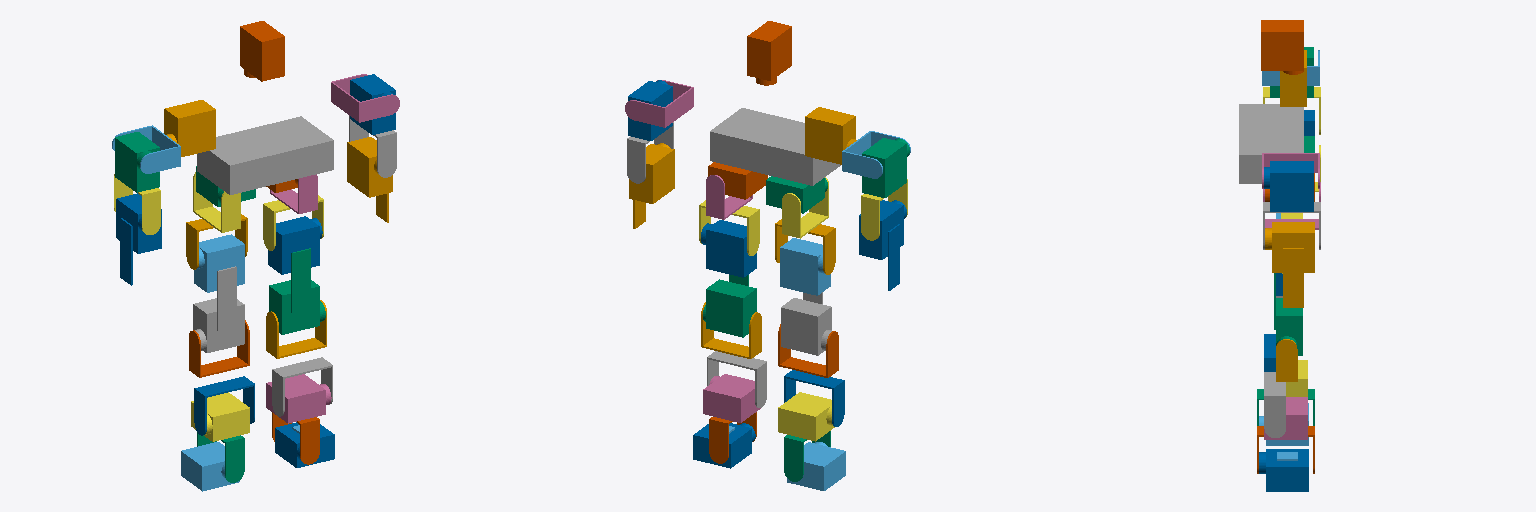
--- What the picture shows (computed from the rendered views, not written in the file) ---
3 views of the same robot in one strip: view 1: azimuth 30°, elevation 25°; view 2: azimuth 150°, elevation 25°; view 3: azimuth 270°, elevation 25° (orthographic).
Model humanoidV3 with 45 links and 44 joints (17 revolute, 27 fixed), rooted at base_link, posed all joints at 0.
Visible links, largest first — view 1: Comp3, servo6, servo5, servo17, servo16, servo12, servo11, servo7, servo8, servo3, servo14, servo4 (+18 smaller); view 2: Comp3, servo6, servo5, servo17, servo7, servo16, servo8, servo11, servo12, servo4, servo3, servo14 (+19 smaller); view 3: Comp3, servo11, servo13, servo17, servo1, csmall7, servo5, servo3, servo16, csmall8, csmall14, csmall11 (+1 smaller).
Boxes of the visible links, x1,y1,x2,y2 form: Comp3: (197, 116, 333, 194); servo6: (193, 266, 244, 352); servo5: (269, 248, 325, 334); servo17: (240, 21, 284, 81); servo16: (164, 100, 215, 156); servo12: (116, 193, 161, 285); servo11: (347, 137, 392, 222); servo7: (268, 216, 322, 274); servo8: (194, 234, 244, 292); servo3: (266, 374, 331, 423); servo14: (115, 132, 159, 192); servo4: (191, 392, 249, 441); Comp3: (710, 108, 840, 185); servo6: (781, 292, 831, 355); servo5: (703, 275, 756, 337); servo17: (747, 21, 791, 85); servo7: (701, 220, 756, 277); servo16: (805, 107, 856, 164); servo8: (780, 238, 830, 295); servo11: (629, 143, 674, 228); servo12: (859, 200, 906, 290); servo4: (778, 392, 834, 441); servo3: (703, 374, 760, 422); servo14: (862, 138, 909, 197); Comp3: (1239, 104, 1303, 183); servo11: (1265, 222, 1314, 307); servo13: (1264, 161, 1313, 211); servo17: (1261, 20, 1303, 74); servo1: (1259, 449, 1308, 491); csmall7: (1264, 372, 1285, 437); servo5: (1274, 273, 1302, 355); servo3: (1264, 397, 1307, 439); servo16: (1280, 50, 1306, 106); csmall8: (1276, 339, 1297, 381); csmall14: (1262, 153, 1319, 188); csmall11: (1262, 50, 1319, 85).
Size in the robot's own frame: 0.274 by 0.0752 by 0.4414 metres.
Meshes: 45 distinct files referenced, 32 mesh visuals loaded (32 binary STL); not drawn: 13 (reference not matched to a file when rendering).

URDF robot description (humanoidV3):
<?xml version='1.0' encoding='utf-8'?>
<robot name="humanoidV3">
    <link name="ankel1">
        <inertial>
            <origin xyz="-2.8545686614478426e-09 4.961367341405065e-09 0.0008749966309221885" rpy="0.0 -0.0 0.0" />
            <mass value="0.022345050000000005" />
            <inertia ixx="2.6819762642970662e-05" iyy="7.87302233046875e-06" izz="3.4681379687502375e-05" ixy="-4.446922973085077e-20" iyz="-5.815410578492806e-20" ixz="2.0434669852509998e-19" />
        </inertial>
        <visual name="ankel1_visual">
            <origin xyz="-0.03250000285456978 -0.0099999950386329 0.0017499966309222068" rpy="-3.141592653589791 4.267419750902977e-16 -6.881682016646111e-16" />
            <geometry>
                <mesh filename="meshes/ankel1.stl" scale="0.001 0.001 0.001" />
            </geometry>
        </visual>
        <collision name="ankel1_collision">
            <origin xyz="-0.03250000285456978 -0.0099999950386329 0.0017499966309222068" rpy="-3.141592653589791 4.267419750902977e-16 -6.881682016646111e-16" />
            <geometry>
                <mesh filename="meshes/ankel1.stl" scale="0.001 0.001 0.001" />
            </geometry>
        </collision>
    </link>
    <link name="servo2">
        <inertial>
            <origin xyz="-0.009549971198737257 0.0023874887169520755 0.024964922230111784" rpy="0.0 -0.0 0.0" />
            <mass value="0.05780123871717229" />
            <inertia ixx="1.1637489216004055e-05" iyy="1.635538058948426e-05" izz="1.0629005497785803e-05" ixy="6.210436850517169e-08" iyz="-1.4284004757590833e-07" ixz="5.713601902397425e-07" />
        </inertial>
        <visual name="servo2_visual">
            <origin xyz="-0.05000000285457011 0.01674999663092223 0.03599999503863284" rpy="1.570796326794899 -6.881682016646106e-16 -6.486781597980867e-16" />
            <geometry>
                <mesh filename="meshes/servo2.stl" scale="0.001 0.001 0.001" />
            </geometry>
        </visual>
        <collision name="servo2_collision">
            <origin xyz="-0.05000000285457011 0.01674999663092223 0.03599999503863284" rpy="1.570796326794899 -6.881682016646106e-16 -6.486781597980867e-16" />
            <geometry>
                <mesh filename="meshes/servo2.stl" scale="0.001 0.001 0.001" />
            </geometry>
        </collision>
    </link>
    <link name="csmall1">
        <inertial>
            <origin xyz="-3.4451162012061334e-09 4.96135654781682e-09 0.013088698801773916" rpy="0.0 -0.0 0.0" />
            <mass value="0.007517560189288541" />
            <inertia ixx="4.996715608195631e-06" iyy="1.5854743173647894e-06" izz="3.897412167647726e-06" ixy="3.705769144237565e-21" iyz="1.6548906206980893e-18" ixz="-2.315078264183458e-14" />
        </inertial>
        <visual name="csmall1_visual">
            <origin xyz="-0.050000003599628244 -0.011249995575074707 0.049999996884241976" rpy="-3.141592653589791 6.486781597980804e-16 1.4153138822986764e-15" />
            <geometry>
                <mesh filename="meshes/csmall1.stl" scale="0.001 0.001 0.001" />
            </geometry>
        </visual>
        <collision name="csmall1_collision">
            <origin xyz="-0.050000003599628244 -0.011249995575074707 0.049999996884241976" rpy="-3.141592653589791 6.486781597980804e-16 1.4153138822986764e-15" />
            <geometry>
                <mesh filename="meshes/csmall1.stl" scale="0.001 0.001 0.001" />
            </geometry>
        </collision>
    </link>
    <link name="servo4">
        <inertial>
            <origin xyz="-0.0023874888659620196 -0.009549963382800864 0.024964923591852428" rpy="3.111507638930571e-61 -0.0 0.0" />
            <mass value="0.05780123871717229" />
            <inertia ixx="1.6355380589484585e-05" iyy="1.16374892159973e-05" izz="1.0629005497790953e-05" ixy="-6.21043685048261e-08" iyz="5.713601902392325e-07" ixz="1.4284004757467357e-07" />
        </inertial>
        <visual name="servo4_visual">
            <origin xyz="-0.0657499967799339 -0.021999995038632862 -0.02000000359962833" rpy="-3.1415926535897913 -1.5707963267948952 0" />
            <geometry>
                <mesh filename="meshes/servo4.stl" scale="0.001 0.001 0.001" />
            </geometry>
        </visual>
        <collision name="servo4_collision">
            <origin xyz="-0.0657499967799339 -0.021999995038632862 -0.02000000359962833" rpy="-3.1415926535897913 -1.5707963267948952 0" />
            <geometry>
                <mesh filename="meshes/servo4.stl" scale="0.001 0.001 0.001" />
            </geometry>
        </collision>
    </link>
    <link name="csmall2">
        <inertial>
            <origin xyz="-3.5996271297022987e-09 4.37082019244528e-09 0.013088698950758672" rpy="0.0 -0.0 0.0" />
            <mass value="0.0075175601892790555" />
            <inertia ixx="1.5854743173617604e-06" iyy="4.996715608184517e-06" izz="3.897412167641438e-06" ixy="-8.555032767268433e-20" iyz="-2.315089021501888e-14" ixz="2.913793338554793e-19" />
        </inertial>
        <visual name="csmall2_visual">
            <origin xyz="-0.04450000359962822 -0.021749996320132744 0.09899999703325346" rpy="-3.141592653589791 4.271059138961151e-16 1.235205088950724e-15" />
            <geometry>
                <mesh filename="meshes/csmall2.stl" scale="0.001 0.001 0.001" />
            </geometry>
        </visual>
        <collision name="csmall2_collision">
            <origin xyz="-0.04450000359962822 -0.021749996320132744 0.09899999703325346" rpy="-3.141592653589791 4.271059138961151e-16 1.235205088950724e-15" />
            <geometry>
                <mesh filename="meshes/csmall2.stl" scale="0.001 0.001 0.001" />
            </geometry>
        </collision>
    </link>
    <link name="csmall3">
        <inertial>
            <origin xyz="-0.01991129603275702 -1.602994736948915e-09 -0.024749996400372908" rpy="0.0 -0.0 0.0" />
            <mass value="0.007517560189279032" />
            <inertia ixx="3.897412167641516e-06" iyy="4.996715608183798e-06" izz="1.585474317361652e-06" ixy="2.3150932566666244e-14" iyz="-1.5648933700523199e-19" ixz="4.87890977618477e-19" />
        </inertial>
        <visual name="csmall3_visual">
            <origin xyz="-0.14699999845690884 0.021749999087958233 0.01975000359962813" rpy="1.4217821258131194e-15 1.5707963267948954 0" />
            <geometry>
                <mesh filename="meshes/csmall3.stl" scale="0.001 0.001 0.001" />
            </geometry>
        </visual>
        <collision name="csmall3_collision">
            <origin xyz="-0.14699999845690884 0.021749999087958233 0.01975000359962813" rpy="1.4217821258131194e-15 1.5707963267948954 0" />
            <geometry>
                <mesh filename="meshes/csmall3.stl" scale="0.001 0.001 0.001" />
            </geometry>
        </collision>
    </link>
    <link name="Comp1">
        <inertial>
            <origin xyz="-3.5996270320026726e-09 0.005234147832397131 0.007101232491757727" rpy="0.0 -0.0 0.0" />
            <mass value="0.024635392744770463" />
            <inertia ixx="1.4596525160532757e-06" iyy="6.1808355249345025e-06" izz="6.812286694457537e-06" ixy="-3.5914196963582334e-19" iyz="-3.052234876525849e-07" ixz="1.1384122811097797e-18" />
        </inertial>
        <visual name="Comp1_visual">
            <origin xyz="-0.044500003599628184 -0.011309445863593127 0.11331588555303221" rpy="-3.141592653589791 4.270652564688459e-16 1.2352050889507236e-15" />
            <geometry>
                <mesh filename="meshes/Comp1.stl" scale="0.001 0.001 0.001" />
            </geometry>
        </visual>
        <collision name="Comp1_collision">
            <origin xyz="-0.044500003599628184 -0.011309445863593127 0.11331588555303221" rpy="-3.141592653589791 4.270652564688459e-16 1.2352050889507236e-15" />
            <geometry>
                <mesh filename="meshes/Comp1.stl" scale="0.001 0.001 0.001" />
            </geometry>
        </collision>
    </link>
    <link name="servo6">
        <inertial>
            <origin xyz="-0.001510475292044493 -0.059836430778758824 -0.011754290813263743" rpy="0.0 -0.0 0.0" />
            <mass value="0.060699238717172255" />
            <inertia ixx="1.4693730397501246e-05" iyy="1.2227175300402873e-05" izz="2.003750615803962e-05" ixy="-7.085129238231869e-07" iyz="-1.084649952349311e-06" ixz="8.478544706950229e-08" />
        </inertial>
        <visual name="servo6_visual">
            <origin xyz="-0.04655113359962817 -0.2166323182035889 -0.03199999780645821" rpy="-1.5707963267948952 -1.0134561938895422e-15 6.4929979419121075e-16" />
            <geometry>
                <mesh filename="meshes/servo6.stl" scale="0.001 0.001 0.001" />
            </geometry>
        </visual>
        <collision name="servo6_collision">
            <origin xyz="-0.04655113359962817 -0.2166323182035889 -0.03199999780645821" rpy="-1.5707963267948952 -1.0134561938895422e-15 6.4929979419121075e-16" />
            <geometry>
                <mesh filename="meshes/servo6.stl" scale="0.001 0.001 0.001" />
            </geometry>
        </collision>
    </link>
    <link name="csmall4">
        <inertial>
            <origin xyz="-1.751608404987337e-09 2.7840902250275692e-09 0.013088702348303408" rpy="0.0 -0.0 1.9446922743316068e-62" />
            <mass value="0.007517560189288577" />
            <inertia ixx="1.5854743173664902e-06" iyy="4.996715608188542e-06" izz="3.897412167648268e-06" ixy="-4.9763185651190145e-19" iyz="2.3150987623807816e-14" ixz="3.2255014631443757e-18" />
        </inertial>
        <visual name="csmall4_visual">
            <origin xyz="-0.044500001751597844 -0.016749999087958135 0.2590000007288018" rpy="-3.141592653589792 9.937682315333398e-16 7.301558552254602e-16" />
            <geometry>
                <mesh filename="meshes/csmall4.stl" scale="0.001 0.001 0.001" />
            </geometry>
        </visual>
        <collision name="csmall4_collision">
            <origin xyz="-0.044500001751597844 -0.016749999087958135 0.2590000007288018" rpy="-3.141592653589792 9.937682315333398e-16 7.301558552254602e-16" />
            <geometry>
                <mesh filename="meshes/csmall4.stl" scale="0.001 0.001 0.001" />
            </geometry>
        </collision>
    </link>
    <link name="servo8">
        <inertial>
            <origin xyz="-0.009549968521620045 0.002387494279572859 0.024964925439881967" rpy="0.0 -0.0 0.0" />
            <mass value="0.05780123871717224" />
            <inertia ixx="1.1637489216007708e-05" iyy="1.635538058944062e-05" izz="1.0629005497797377e-05" ixy="6.210436850423657e-08" iyz="-1.4284004757892906e-07" ixz="5.713601902298474e-07" />
        </inertial>
        <visual name="servo8_visual">
            <origin xyz="-0.22725000098212164 -0.01650000036945807 -0.020000001751597975" rpy="-3.141592653589792 -1.5707963267948954 0" />
            <geometry>
                <mesh filename="meshes/servo8.stl" scale="0.001 0.001 0.001" />
            </geometry>
        </visual>
        <collision name="servo8_collision">
            <origin xyz="-0.22725000098212164 -0.01650000036945807 -0.020000001751597975" rpy="-3.141592653589792 -1.5707963267948954 0" />
            <geometry>
                <mesh filename="meshes/servo8.stl" scale="0.001 0.001 0.001" />
            </geometry>
        </collision>
    </link>
    <link name="servo10">
        <inertial>
            <origin xyz="-0.00011250838944206975 -0.0010350757471211313 0.02045003415248685" rpy="-1.5557538194652854e-61 -0.0 0.0" />
            <mass value="0.05780123871717229" />
            <inertia ixx="1.6355380589490006e-05" iyy="1.0629005497729722e-05" izz="1.1637489216025435e-05" ixy="-1.4284004757451093e-07" iyz="5.713601902344519e-07" ixz="6.210436852066223e-08" />
        </inertial>
        <visual name="servo10_visual">
            <origin xyz="-0.2892500004754824 0.009999997061400298 0.08000000249665645" rpy="1.0914125846925462e-15 1.570796326794896 0" />
            <geometry>
                <mesh filename="meshes/servo10.stl" scale="0.001 0.001 0.001" />
            </geometry>
        </visual>
        <collision name="servo10_collision">
            <origin xyz="-0.2892500004754824 0.009999997061400298 0.08000000249665645" rpy="1.0914125846925462e-15 1.570796326794896 0" />
            <geometry>
                <mesh filename="meshes/servo10.stl" scale="0.001 0.001 0.001" />
            </geometry>
        </collision>
    </link>
    <link name="csmall5">
        <inertial>
            <origin xyz="-1.9061078493365357e-09 -0.019911298304645192 -0.024749997061399593" rpy="0.0 -0.0 0.0" />
            <mass value="0.0075175601892790815" />
            <inertia ixx="4.996715608188542e-06" iyy="3.897412167641834e-06" izz="1.5854743173523414e-06" ixy="2.314892255748241e-14" iyz="-9.825582188149884e-20" ixz="-6.238397656527922e-19" />
        </inertial>
        <visual name="csmall5_visual">
            <origin xyz="-0.050000002496656315 -0.29600000072880195 -0.03699999834290019" rpy="-1.5707963267948954 -7.301558552254616e-16 4.52906399314503e-16" />
            <geometry>
                <mesh filename="meshes/csmall5.stl" scale="0.001 0.001 0.001" />
            </geometry>
        </visual>
        <collision name="csmall5_collision">
            <origin xyz="-0.050000002496656315 -0.29600000072880195 -0.03699999834290019" rpy="-1.5707963267948954 -7.301558552254616e-16 4.52906399314503e-16" />
            <geometry>
                <mesh filename="meshes/csmall5.stl" scale="0.001 0.001 0.001" />
            </geometry>
        </collision>
    </link>
    <link name="servo1">
        <inertial>
            <origin xyz="0.009549966518355255 0.002387488716951498 0.02496492223011178" rpy="0.0 -1.9446922743316068e-62 0.0" />
            <mass value="0.05780123871717229" />
            <inertia ixx="1.1637489216004664e-05" iyy="1.635538058948399e-05" izz="1.0629005497773958e-05" ixy="-6.21043685011737e-08" iyz="-1.4284004757605402e-07" ixz="-5.713601902385041e-07" />
        </inertial>
        <visual name="servo1_visual">
            <origin xyz="-0.12500000182581783 0.016749996630921686 0.035999995038633055" rpy="1.5707963267948986 1.3102332426606643e-15 -4.0766001685454745e-16" />
            <geometry>
                <mesh filename="meshes/servo1.stl" scale="0.001 0.001 0.001" />
            </geometry>
        </visual>
        <collision name="servo1_collision">
            <origin xyz="-0.12500000182581783 0.016749996630921686 0.035999995038633055" rpy="1.5707963267948986 1.3102332426606643e-15 -4.0766001685454745e-16" />
            <geometry>
                <mesh filename="meshes/servo1.stl" scale="0.001 0.001 0.001" />
            </geometry>
        </collision>
    </link>
    <link name="csmall6">
        <inertial>
            <origin xyz="-1.2352658984582377e-09 4.961367565670116e-09 0.01308869880174826" rpy="0.0 -0.0 0.0" />
            <mass value="0.007517560189279023" />
            <inertia ixx="4.996715608185755e-06" iyy="1.5854743173593074e-06" izz="3.897412167641319e-06" ixy="-1.367958209815695e-19" iyz="1.747005453711994e-20" ixz="2.3151355236106924e-14" />
        </inertial>
        <visual name="csmall6_visual">
            <origin xyz="-0.1250000010807597 -0.011249995575074768 0.04999999688424148" rpy="-3.141592653589791 4.0766001685454656e-16 1.2490009069339105e-15" />
            <geometry>
                <mesh filename="meshes/csmall6.stl" scale="0.001 0.001 0.001" />
            </geometry>
        </visual>
        <collision name="csmall6_collision">
            <origin xyz="-0.1250000010807597 -0.011249995575074768 0.04999999688424148" rpy="-3.141592653589791 4.0766001685454656e-16 1.2490009069339105e-15" />
            <geometry>
                <mesh filename="meshes/csmall6.stl" scale="0.001 0.001 0.001" />
            </geometry>
        </collision>
    </link>
    <link name="servo3">
        <inertial>
            <origin xyz="-0.0023874888659615847 0.0095499633828008 0.02496492827223481" rpy="0.0 -0.0 0.0" />
            <mass value="0.05780123871717229" />
            <inertia ixx="1.6355380589487024e-05" iyy="1.163748921598597e-05" izz="1.0629005497791305e-05" ixy="6.210436850496925e-08" iyz="-5.713601902409419e-07" ixz="1.4284004757995905e-07" />
        </inertial>
        <visual name="servo3_visual">
            <origin xyz="-0.06574999677993333 0.021999995038632873 0.15500000108075956" rpy="2.012345771882042e-15 1.5707963267948952 0" />
            <geometry>
                <mesh filename="meshes/servo3.stl" scale="0.001 0.001 0.001" />
            </geometry>
        </visual>
        <collision name="servo3_collision">
            <origin xyz="-0.06574999677993333 0.021999995038632873 0.15500000108075956" rpy="2.012345771882042e-15 1.5707963267948952 0" />
            <geometry>
                <mesh filename="meshes/servo3.stl" scale="0.001 0.001 0.001" />
            </geometry>
        </collision>
    </link>
    <link name="csmall7">
        <inertial>
            <origin xyz="-1.0807555561598293e-09 4.3708202324133085e-09 0.013088698950758353" rpy="0.0 -0.0 0.0" />
            <mass value="0.007517560189279044" />
            <inertia ixx="1.585474317361896e-06" iyy="4.996715608183256e-06" izz="3.8974121676419425e-06" ixy="-2.1175823681357508e-19" iyz="-2.31508690391952e-14" ixz="6.640738306473715e-19" />
        </inertial>
        <visual name="csmall7_visual">
            <origin xyz="-0.13050000108075968 -0.021749996320132796 0.09899999703325324" rpy="-3.141592653589791 4.0742861272967434e-16 1.249000899855005e-15" />
            <geometry>
                <mesh filename="meshes/csmall7.stl" scale="0.001 0.001 0.001" />
            </geometry>
        </visual>
        <collision name="csmall7_collision">
            <origin xyz="-0.13050000108075968 -0.021749996320132796 0.09899999703325324" rpy="-3.141592653589791 4.0742861272967434e-16 1.249000899855005e-15" />
            <geometry>
                <mesh filename="meshes/csmall7.stl" scale="0.001 0.001 0.001" />
            </geometry>
        </collision>
    </link>
    <link name="csmall8">
        <inertial>
            <origin xyz="-0.01991129603275672 1.6029947946805123e-09 -0.024750001080755767" rpy="0.0 -0.0 0.0" />
            <mass value="0.0075175601892790555" />
            <inertia ixx="3.89741216764197e-06" iyy="4.996715608181982e-06" izz="1.5854743173623702e-06" ixy="-2.3150949083808716e-14" iyz="-3.290723000082957e-19" ixz="-8.673617379884035e-19" />
        </inertial>
        <visual name="csmall8_visual">
            <origin xyz="-0.14699999845690861 -0.021749999087958237 -0.1552500010807598" rpy="-3.141592653589792 -1.5707963267948952 0" />
            <geometry>
                <mesh filename="meshes/csmall8.stl" scale="0.001 0.001 0.001" />
            </geometry>
        </visual>
        <collision name="csmall8_collision">
            <origin xyz="-0.14699999845690861 -0.021749999087958237 -0.1552500010807598" rpy="-3.141592653589792 -1.5707963267948952 0" />
            <geometry>
                <mesh filename="meshes/csmall8.stl" scale="0.001 0.001 0.001" />
            </geometry>
        </collision>
    </link>
    <link name="Comp2">
        <inertial>
            <origin xyz="-1.0807555739233977e-09 0.0052341478323971735 0.007101232491757585" rpy="0.0 -0.0 0.0" />
            <mass value="0.024635392744770463" />
            <inertia ixx="1.4596525160541973e-06" iyy="6.18083552493022e-06" izz="6.812286694459326e-06" ixy="-8.487270131488089e-19" iyz="-3.052234876525112e-07" ixz="2.3310346708438345e-18" />
        </inertial>
        <visual name="Comp2_visual">
            <origin xyz="-0.13050000108075963 -0.011309445863593193 0.11331588555303214" rpy="-3.141592653589791 4.069010736003487e-16 1.2490009926756353e-15" />
            <geometry>
                <mesh filename="meshes/Comp2.stl" scale="0.001 0.001 0.001" />
            </geometry>
        </visual>
        <collision name="Comp2_collision">
            <origin xyz="-0.13050000108075963 -0.011309445863593193 0.11331588555303214" rpy="-3.141592653589791 4.069010736003487e-16 1.2490009926756353e-15" />
            <geometry>
                <mesh filename="meshes/Comp2.stl" scale="0.001 0.001 0.001" />
            </geometry>
        </collision>
    </link>
    <link name="servo5">
        <inertial>
            <origin xyz="0.0015104706116613898 -0.059836430778758685 -0.011754290813263677" rpy="0.0 -0.0 0.0" />
            <mass value="0.06069923871717226" />
            <inertia ixx="1.4693730397505583e-05" iyy="1.2227175300407941e-05" izz="2.003750615803138e-05" ixy="7.085129238092007e-07" iyz="-1.0846499523494262e-06" ixz="-8.478544707405425e-08" />
        </inertial>
        <visual name="servo5_visual">
            <origin xyz="-0.1284488710807597 -0.21663231820358875 -0.03199999780645829" rpy="-1.5707963267948952 -1.4710456866728654e-15 1.8463958064169038e-16" />
            <geometry>
                <mesh filename="meshes/servo5.stl" scale="0.001 0.001 0.001" />
            </geometry>
        </visual>
        <collision name="servo5_collision">
            <origin xyz="-0.1284488710807597 -0.21663231820358875 -0.03199999780645829" rpy="-1.5707963267948952 -1.4710456866728654e-15 1.8463958064169038e-16" />
            <geometry>
                <mesh filename="meshes/servo5.stl" scale="0.001 0.001 0.001" />
            </geometry>
        </collision>
    </link>
    <link name="csmall9">
        <inertial>
            <origin xyz="-2.928775373334247e-09 2.7840902805387205e-09 0.013088702348303229" rpy="0.0 -0.0 0.0" />
            <mass value="0.007517560189288569" />
            <inertia ixx="1.5854743173678997e-06" iyy="4.9967156081874575e-06" izz="3.897412167649125e-06" ixy="-6.2511031507367365e-19" iyz="2.3151016422928022e-14" ixz="2.710505431213761e-19" />
        </inertial>
        <visual name="csmall9_visual">
            <origin xyz="-0.1305000029287901 -0.01674999908795828 0.2590000007288016" rpy="-3.141592653589792 -3.7459185059836284e-17 1.6930925415094461e-15" />
            <geometry>
                <mesh filename="meshes/csmall9.stl" scale="0.001 0.001 0.001" />
            </geometry>
        </visual>
        <collision name="csmall9_collision">
            <origin xyz="-0.1305000029287901 -0.01674999908795828 0.2590000007288016" rpy="-3.141592653589792 -3.7459185059836284e-17 1.6930925415094461e-15" />
            <geometry>
                <mesh filename="meshes/csmall9.stl" scale="0.001 0.001 0.001" />
            </geometry>
        </collision>
    </link>
    <link name="servo7">
        <inertial>
            <origin xyz="-0.009549968521619831 -0.0023874942795729104 0.02496493012026555" rpy="0.0 -0.0 0.0" />
            <mass value="0.05780123871717224" />
            <inertia ixx="1.1637489216011774e-05" iyy="1.6355380589428477e-05" izz="1.0629005497811688e-05" ixy="-6.210436850401973e-08" iyz="1.428400475718411e-07" ixz="5.713601902526157e-07" />
        </inertial>
        <visual name="servo7_visual">
            <origin xyz="-0.22725000098212136 0.01650000036945815 0.1550000029287901" rpy="1.3288061796878798e-15 1.5707963267948952 0" />
            <geometry>
                <mesh filename="meshes/servo7.stl" scale="0.001 0.001 0.001" />
            </geometry>
        </visual>
        <collision name="servo7_collision">
            <origin xyz="-0.22725000098212136 0.01650000036945815 0.1550000029287901" rpy="1.3288061796878798e-15 1.5707963267948952 0" />
            <geometry>
                <mesh filename="meshes/servo7.stl" scale="0.001 0.001 0.001" />
            </geometry>
        </collision>
    </link>
    <link name="servo9">
        <inertial>
            <origin xyz="-0.00011250838944196318 0.0010350757471211725 0.020450029472102643" rpy="-1.5557538194652854e-61 -0.0 0.0" />
            <mass value="0.05780123871717229" />
            <inertia ixx="1.6355380589495047e-05" iyy="1.0629005497726253e-05" izz="1.1637489216028037e-05" ixy="1.428400475743212e-07" iyz="-5.713601902454057e-07" ixz="6.210436848683512e-08" />
        </inertial>
        <visual name="servo9_visual">
            <origin xyz="-0.2892500004754823 -0.009999997061400298 -0.09500000218373193" rpy="-3.1415926535897922 -1.570796326794896 0" />
            <geometry>
                <mesh filename="meshes/servo9.stl" scale="0.001 0.001 0.001" />
            </geometry>
        </visual>
        <collision name="servo9_collision">
            <origin xyz="-0.2892500004754823 -0.009999997061400298 -0.09500000218373193" rpy="-3.1415926535897922 -1.570796326794896 0" />
            <geometry>
                <mesh filename="meshes/servo9.stl" scale="0.001 0.001 0.001" />
            </geometry>
        </collision>
    </link>
    <link name="csmall10">
        <inertial>
            <origin xyz="-2.7742760799753798e-09 -0.019911298304619685 -0.02474999706141061" rpy="0.0 -0.0 0.0" />
            <mass value="0.0075175601892885895" />
            <inertia ixx="4.996715608197107e-06" iyy="3.897412167649342e-06" izz="1.585474317356136e-06" ixy="-2.3153137393427947e-14" iyz="1.5077186461126546e-18" ixz="-7.352245982167327e-19" />
        </inertial>
        <visual name="csmall10_visual">
            <origin xyz="-0.1250000021837316 -0.29600000072880184 -0.036999998342900325" rpy="-1.5707963267948954 -1.6930925415094453e-15 2.0816681711721522e-16" />
            <geometry>
                <mesh filename="meshes/csmall10.stl" scale="0.001 0.001 0.001" />
            </geometry>
        </visual>
        <collision name="csmall10_collision">
            <origin xyz="-0.1250000021837316 -0.29600000072880184 -0.036999998342900325" rpy="-1.5707963267948954 -1.6930925415094453e-15 2.0816681711721522e-16" />
            <geometry>
                <mesh filename="meshes/csmall10.stl" scale="0.001 0.001 0.001" />
            </geometry>
        </collision>
    </link>
    <link name="Comp3">
        <inertial>
            <origin xyz="-2.3401921822596706e-09 -2.938600325297358e-09 0.015000001978838462" rpy="0.0 -0.0 0.0" />
            <mass value="0.108042" />
            <inertia ixx="1.1704550000034633e-05" iyy="0.00011704549999990571" izz="0.00011254375000002616" ixy="1.22514845490862e-17" iyz="3.2526065174565133e-18" ixz="-3.642919299551295e-17" />
        </inertial>
        <visual name="Comp3_visual">
            <origin xyz="-0.08790239544049015 0.009999997061400376 -0.30209760492087645" rpy="1.3726952314184223e-15 -3.3088960919663185e-16 -7.021478737325883e-16" />
            <geometry>
                <mesh filename="meshes/Comp3.stl" scale="0.001 0.001 0.001" />
            </geometry>
        </visual>
        <collision name="Comp3_collision">
            <origin xyz="-0.08790239544049015 0.009999997061400376 -0.30209760492087645" rpy="1.3726952314184223e-15 -3.3088960919663185e-16 -7.021478737325883e-16" />
            <geometry>
                <mesh filename="meshes/Comp3.stl" scale="0.001 0.001 0.001" />
            </geometry>
        </collision>
    </link>
    <link name="servo16">
        <inertial>
            <origin xyz="0.00011251085256978488 -0.014035075148715572 0.019549970323008665" rpy="0.0 -0.0 0.0" />
            <mass value="0.05780123871717229" />
            <inertia ixx="1.6355380589403758e-05" iyy="1.0629005497816459e-05" izz="1.1637489216006542e-05" ixy="1.4284004756844957e-07" iyz="-5.713601902620482e-07" ixz="6.21043685028271e-08" />
        </inertial>
        <visual name="servo16_visual">
            <origin xyz="-0.02349999706140097 -0.0320000023401943 -0.332749998021172" rpy="1.2490961837546736e-15 -1.0826224560388941e-16 1.570796326794896" />
            <geometry>
                <mesh filename="meshes/servo16.stl" scale="0.001 0.001 0.001" />
            </geometry>
        </visual>
        <collision name="servo16_collision">
            <origin xyz="-0.02349999706140097 -0.0320000023401943 -0.332749998021172" rpy="1.2490961837546736e-15 -1.0826224560388941e-16 1.570796326794896" />
            <geometry>
                <mesh filename="meshes/servo16.stl" scale="0.001 0.001 0.001" />
            </geometry>
        </collision>
    </link>
    <link name="csmall11">
        <inertial>
            <origin xyz="1.8243292032593673e-09 -2.9386003896902937e-09 0.013088704362012217" rpy="0.0 -0.0 0.0" />
            <mass value="0.007517560189279109" />
            <inertia ixx="4.996715608185183e-06" iyy="1.5854743173472456e-06" izz="3.897412167643975e-06" ixy="2.405573570202213e-19" iyz="-9.157484951003055e-19" ixz="2.3153696435173135e-14" />
        </inertial>
        <visual name="csmall11_visual">
            <origin xyz="-0.342999999168562 0.012249998342900168 -0.0079999976598056" rpy="9.678135370296036e-16 1.5707963267948957 0" />
            <geometry>
                <mesh filename="meshes/csmall11.stl" scale="0.001 0.001 0.001" />
            </geometry>
        </visual>
        <collision name="csmall11_collision">
            <origin xyz="-0.342999999168562 0.012249998342900168 -0.0079999976598056" rpy="9.678135370296036e-16 1.5707963267948957 0" />
            <geometry>
                <mesh filename="meshes/csmall11.stl" scale="0.001 0.001 0.001" />
            </geometry>
        </collision>
    </link>
    <link name="servo14">
        <inertial>
            <origin xyz="0.0023874898948450917 0.00954996711038703 0.02496492425287901" rpy="0.0 -0.0 0.0" />
            <mass value="0.05780123871717229" />
            <inertia ixx="1.635538058948182e-05" iyy="1.1637489215999102e-05" izz="1.062900549771758e-05" ixy="-6.210436848412462e-08" iyz="-5.713601902412315e-07" ixz="-1.4284004756918818e-07" />
        </inertial>
        <visual name="servo14_visual">
            <origin xyz="0.040999997808816684 0.3427499987662301 0.03599999706140066" rpy="1.570796326794898 9.854263432991964e-16 1.4185260767666868e-17" />
            <geometry>
                <mesh filename="meshes/servo14.stl" scale="0.001 0.001 0.001" />
            </geometry>
        </visual>
        <collision name="servo14_collision">
            <origin xyz="0.040999997808816684 0.3427499987662301 0.03599999706140066" rpy="1.570796326794898 9.854263432991964e-16 1.4185260767666868e-17" />
            <geometry>
                <mesh filename="meshes/servo14.stl" scale="0.001 0.001 0.001" />
            </geometry>
        </collision>
    </link>
    <link name="csmall12">
        <inertial>
            <origin xyz="-2.0366747621736183e-09 2.938589309664508e-09 0.013088700788060806" rpy="0.0 -0.0 6.077163357286271e-64" />
            <mass value="0.007517560189288622" />
            <inertia ixx="4.9967156081936375e-06" iyy="1.5854743173558108e-06" izz="3.897412167647189e-06" ixy="-7.02190313273815e-19" iyz="1.782157321023048e-18" ixz="-2.3148705717047913e-14" />
        </inertial>
        <visual name="csmall12_visual">
            <origin xyz="0.037999998404863226 -0.012249998342900222 0.31199999901954967" rpy="-3.141592653589792 -3.0167459581288215e-16 9.854262903596362e-16" />
            <geometry>
                <mesh filename="meshes/csmall12.stl" scale="0.001 0.001 0.001" />
            </geometry>
        </visual>
        <collision name="csmall12_collision">
            <origin xyz="0.037999998404863226 -0.012249998342900222 0.31199999901954967" rpy="-3.141592653589792 -3.0167459581288215e-16 9.854262903596362e-16" />
            <geometry>
                <mesh filename="meshes/csmall12.stl" scale="0.001 0.001 0.001" />
            </geometry>
        </collision>
    </link>
    <link name="servo12">
        <inertial>
            <origin xyz="0.001754291560679362 0.010777956857792575 0.02501553111428781" rpy="0.0 -0.0 0.0" />
            <mass value="0.06069923871717238" />
            <inertia ixx="1.915010624521478e-05" iyy="1.2223332488588956e-05" izz="1.381017329639845e-05" ixy="8.792585286656685e-07" iyz="-6.465962782813692e-07" ixz="-1.0404541105938957e-07" />
        </inertial>
        <visual name="servo12_visual">
            <origin xyz="0.037999998553874696 0.27874999861721866 0.035999997061400654" rpy="1.570796326794898 9.854264491783177e-16 3.0168772482356326e-16" />
            <geometry>
                <mesh filename="meshes/servo12.stl" scale="0.001 0.001 0.001" />
            </geometry>
        </visual>
        <collision name="servo12_collision">
            <origin xyz="0.037999998553874696 0.27874999861721866 0.035999997061400654" rpy="1.570796326794898 9.854264491783177e-16 3.0168772482356326e-16" />
            <geometry>
                <mesh filename="meshes/servo12.stl" scale="0.001 0.001 0.001" />
            </geometry>
        </collision>
    </link>
    <link name="servo15">
        <inertial>
            <origin xyz="0.00011251085256993588 0.014035070468330914 0.019549970323008595" rpy="0.0 -0.0 0.0" />
            <mass value="0.05780123871717229" />
            <inertia ixx="1.6355380589411564e-05" iyy="1.0629005497825132e-05" izz="1.1637489216020664e-05" ixy="-1.4284004758475665e-07" iyz="5.71360190212717e-07" ixz="6.210436850258316e-08" />
        </inertial>
        <visual name="servo15_visual">
            <origin xyz="-0.023499997061400938 -0.1430000023401941 -0.33274999802117217" rpy="1.2486625028860847e-15 -5.525411908341289e-16 1.570796326794896" />
            <geometry>
                <mesh filename="meshes/servo15.stl" scale="0.001 0.001 0.001" />
            </geometry>
        </visual>
        <collision name="servo15_collision">
            <origin xyz="-0.023499997061400938 -0.1430000023401941 -0.33274999802117217" rpy="1.2486625028860847e-15 -5.525411908341289e-16 1.570796326794896" />
            <geometry>
                <mesh filename="meshes/servo15.stl" scale="0.001 0.001 0.001" />
            </geometry>
        </collision>
    </link>
    <link name="csmall14">
        <inertial>
            <origin xyz="1.8243291322050936e-09 2.9386006028531142e-09 0.013088699681627887" rpy="0.0 -0.0 0.0" />
            <mass value="0.007517560189279109" />
            <inertia ixx="4.996715608188325e-06" iyy="1.5854743173500645e-06" izz="3.897412167645927e-06" ixy="-3.4897757426877174e-19" iyz="-1.212951180468158e-18" ixz="2.3147065861262028e-14" />
        </inertial>
        <visual name="csmall14_visual">
            <origin xyz="-0.3429999991685617 -0.012249998342900099 -0.18300000234019362" rpy="-3.1415926535897922 -1.5707963267948957 0" />
            <geometry>
                <mesh filename="meshes/csmall14.stl" scale="0.001 0.001 0.001" />
            </geometry>
        </visual>
        <collision name="csmall14_collision">
            <origin xyz="-0.3429999991685617 -0.012249998342900099 -0.18300000234019362" rpy="-3.1415926535897922 -1.5707963267948957 0" />
            <geometry>
                <mesh filename="meshes/csmall14.stl" scale="0.001 0.001 0.001" />
            </geometry>
        </collision>
    </link>
    <link name="csmall15">
        <inertial>
            <origin xyz="-2.6437093936237944e-09 2.9386004052334157e-09 0.013088700788035687" rpy="0.0 -0.0 1.1563413488955205e-93" />
            <mass value="0.007517560189279135" />
            <inertia ixx="4.996715608187783e-06" iyy="1.5854743173552687e-06" izz="3.897412167644843e-06" ixy="-1.0537089863843496e-18" iyz="3.1170812458958252e-19" ixz="2.3154546856252178e-14" />
        </inertial>
        <visual name="csmall15_visual">
            <origin xyz="-0.21300000308525102 -0.012249998342900158 0.31199999901954967" rpy="-3.141592653589792 8.76962009412585e-16 5.41335968778839e-16" />
            <geometry>
                <mesh filename="meshes/csmall15.stl" scale="0.001 0.001 0.001" />
            </geometry>
        </visual>
        <collision name="csmall15_collision">
            <origin xyz="-0.21300000308525102 -0.012249998342900158 0.31199999901954967" rpy="-3.141592653589792 8.76962009412585e-16 5.41335968778839e-16" />
            <geometry>
                <mesh filename="meshes/csmall15.stl" scale="0.001 0.001 0.001" />
            </geometry>
        </collision>
    </link>
    <link name="servo11">
        <inertial>
            <origin xyz="-0.0017542962410632512 0.01077795685779222 0.02501553111428751" rpy="0.0 -0.0 0.0" />
            <mass value="0.0606992387171724" />
            <inertia ixx="1.9150106245229524e-05" iyy="1.2223332488616075e-05" izz="1.381017329639845e-05" ixy="-8.79258528631733e-07" iyz="-6.465962782821011e-07" ixz="1.0404541107129038e-07" />
        </inertial>
        <visual name="servo11_visual">
            <origin xyz="-0.21300000323426266 0.27874999861721855 0.03599999706140051" rpy="1.570796326794898 5.413374510864967e-16 -8.769344808417987e-16" />
            <geometry>
                <mesh filename="meshes/servo11.stl" scale="0.001 0.001 0.001" />
            </geometry>
        </visual>
        <collision name="servo11_collision">
            <origin xyz="-0.21300000323426266 0.27874999861721855 0.03599999706140051" rpy="1.570796326794898 5.413374510864967e-16 -8.769344808417987e-16" />
            <geometry>
                <mesh filename="meshes/servo11.stl" scale="0.001 0.001 0.001" />
            </geometry>
        </collision>
    </link>
    <link name="ankel2">
        <inertial>
            <origin xyz="-1.8258131717630023e-09 4.961367401357108e-09 0.0008749966309217045" rpy="0.0 -0.0 1.9446922743316068e-62" />
            <mass value="0.022345050000000005" />
            <inertia ixx="2.681976264297074e-05" iyy="7.873022330461303e-06" izz="3.468137968750182e-05" ixy="-4.760325163569168e-19" iyz="2.2869889575866112e-20" ixz="1.6339265552535454e-18" />
        </inertial>
        <visual name="ankel2_visual">
            <origin xyz="-0.14250000182581812 -0.00999999503863305 0.0017499966309217736" rpy="-3.141592653589791 4.2674197509029134e-16 1.310233242660665e-15" />
            <geometry>
                <mesh filename="meshes/ankel2.stl" scale="0.001 0.001 0.001" />
            </geometry>
        </visual>
        <collision name="ankel2_collision">
            <origin xyz="-0.14250000182581812 -0.00999999503863305 0.0017499966309217736" rpy="-3.141592653589791 4.2674197509029134e-16 1.310233242660665e-15" />
            <geometry>
                <mesh filename="meshes/ankel2.stl" scale="0.001 0.001 0.001" />
            </geometry>
        </collision>
    </link>
    <link name="base_link">
        <inertial>
            <origin xyz="0.0875000013038567 -0.0009999999999999115 0.2943680743872477" rpy="0.0 0.0 0.0" />
            <mass value="0.01755626878248209" />
            <inertia ixx="1.5391454563691157e-06" iyy="1.5991293939087798e-06" izz="1.2304018564035566e-06" ixy="1.7481631746319775e-18" iyz="2.708527954745572e-19" ixz="-5.426260569944666e-18" />
        </inertial>
        <visual name="base_link_visual">
            <origin xyz="0.0 0.0 0.0" rpy="0.0 0.0 0.0" />
            <geometry>
                <mesh filename="meshes/base_link.stl" scale="0.001 0.001 0.001" />
            </geometry>
        </visual>
        <collision name="base_link_collision">
            <origin xyz="0.0 0.0 0.0" rpy="0.0 0.0 0.0" />
            <geometry>
                <mesh filename="meshes/base_link.stl" scale="0.001 0.001 0.001" />
            </geometry>
        </collision>
    </link>
    <link name="Comp4">
        <inertial>
            <origin xyz="-2.3401922533139443e-09 -2.9386003908005165e-09 0.030000001978839067" rpy="0.0 -0.0 0.0" />
            <mass value="0.039288000000000003" />
            <inertia ixx="1.3095999999972012e-05" iyy="1.3095999999935583e-05" izz="2.6191999999999427e-06" ixy="1.7414997395548415e-18" iyz="-1.2115959277525512e-17" ixz="4.119968255444917e-18" />
        </inertial>
        <visual name="Comp4_visual">
            <origin xyz="-0.09858072889946762 -0.008716800000000349 -0.35762684908396125" rpy="-8.3421645302472e-16 1.1102230246251527e-16 -7.02147873732588e-16" />
            <geometry>
                <mesh filename="meshes/Comp4.stl" scale="0.001 0.001 0.001" />
            </geometry>
        </visual>
        <collision name="Comp4_collision">
            <origin xyz="-0.09858072889946762 -0.008716800000000349 -0.35762684908396125" rpy="-8.3421645302472e-16 1.1102230246251527e-16 -7.02147873732588e-16" />
            <geometry>
                <mesh filename="meshes/Comp4.stl" scale="0.001 0.001 0.001" />
            </geometry>
        </collision>
    </link>
    <link name="servo13">
        <inertial>
            <origin xyz="-0.002387494575229354 0.009549967110386817 0.024964924252878787" rpy="0.0 1.9446922743316068e-62 0.0" />
            <mass value="0.05780123871717229" />
            <inertia ixx="1.6355380589510443e-05" iyy="1.1637489216029771e-05" izz="1.0629005497723651e-05" ixy="6.210436853410634e-08" iyz="-5.713601902419634e-07" ixz="1.4284004758513612e-07" />
        </inertial>
        <visual name="servo13_visual">
            <origin xyz="-0.2160000024892046 0.34274999876623 0.03599999706140059" rpy="1.570796326794898 5.413361275975191e-16 -6.749886972056965e-16" />
            <geometry>
                <mesh filename="meshes/servo13.stl" scale="0.001 0.001 0.001" />
            </geometry>
        </visual>
        <collision name="servo13_collision">
            <origin xyz="-0.2160000024892046 0.34274999876623 0.03599999706140059" rpy="1.570796326794898 5.413361275975191e-16 -6.749886972056965e-16" />
            <geometry>
                <mesh filename="meshes/servo13.stl" scale="0.001 0.001 0.001" />
            </geometry>
        </collision>
    </link>
    <link name="servo17">
        <inertial>
            <origin xyz="0.0023874897458384227 -0.009549971282767893 0.024964929170319082" rpy="0.0 -0.0 0.0" />
            <mass value="0.05780123871717229" />
            <inertia ixx="1.635538058957116e-05" iyy="1.1637489216013291e-05" izz="1.0629005497958055e-05" ixy="6.210436848821663e-08" iyz="5.713601901894406e-07" ixz="-1.4284004757692328e-07" />
        </inertial>
        <visual name="servo17_visual">
            <origin xyz="0.025999997659808562 0.34274999706141 0.18200000197884386" rpy="1.5707963267948972 1.5707963267948952 0" />
            <geometry>
                <mesh filename="meshes/servo17.stl" scale="0.001 0.001 0.001" />
            </geometry>
        </visual>
        <collision name="servo17_collision">
            <origin xyz="0.025999997659808562 0.34274999706141 0.18200000197884386" rpy="1.5707963267948972 1.5707963267948952 0" />
            <geometry>
                <mesh filename="meshes/servo17.stl" scale="0.001 0.001 0.001" />
            </geometry>
        </collision>
    </link>
    <link name="sensor2">
        <inertial>
            <origin xyz="-2.8545688746106635e-09 -4.961367416900231e-09 0.0010000033690786925" rpy="0.0 -0.0 0.0" />
            <mass value="0.00111" />
            <inertia ixx="3.736999999999224e-08" iyy="2.1182500000000792e-08" izz="5.781249999998658e-08" ixy="-1.164670302474663e-21" iyz="-6.61744490042422e-23" ixz="-2.1175823681357513e-22" />
        </inertial>
        <visual name="sensor2_visual">
            <origin xyz="-0.10238803388935502 0.14515758070769377 3.3690790379736767e-09" rpy="2.377324588427018e-15 -1.577721810442026e-30 6.881682016646131e-16" />
            <geometry>
                <mesh filename="meshes/sensor2.stl" scale="0.001 0.001 0.001" />
            </geometry>
        </visual>
        <collision name="sensor2_collision">
            <origin xyz="-0.10238803388935502 0.14515758070769377 3.3690790379736767e-09" rpy="2.377324588427018e-15 -1.577721810442026e-30 6.881682016646131e-16" />
            <geometry>
                <mesh filename="meshes/sensor2.stl" scale="0.001 0.001 0.001" />
            </geometry>
        </collision>
    </link>
    <link name="sensor7">
        <inertial>
            <origin xyz="1.9788393501585233e-09 -2.9386003363995885e-09 0.0010000023401924986" rpy="-9.723461371658034e-63 -0.0 0.0" />
            <mass value="0.00111" />
            <inertia ixx="2.118250000004018e-08" iyy="3.7369999999890173e-08" izz="5.78124999998735e-08" ixy="6.3527471044072525e-21" iyz="-4.219894877684143e-40" ixz="-6.776263578034403e-21" />
        </inertial>
        <visual name="sensor7_visual">
            <origin xyz="0.1451575876479007 0.10238802809618537 2.3401924131860596e-09" rpy="-1.1102230246251906e-16 -7.021478737325589e-16 -1.5707963267948977" />
            <geometry>
                <mesh filename="meshes/sensor7.stl" scale="0.001 0.001 0.001" />
            </geometry>
        </visual>
        <collision name="sensor7_collision">
            <origin xyz="0.1451575876479007 0.10238802809618537 2.3401924131860596e-09" rpy="-1.1102230246251906e-16 -7.021478737325589e-16 -1.5707963267948977" />
            <geometry>
                <mesh filename="meshes/sensor7.stl" scale="0.001 0.001 0.001" />
            </geometry>
        </collision>
    </link>
    <link name="sensor4">
        <inertial>
            <origin xyz="-3.599627156347651e-09 -1.7964164378270198e-09 0.0009999978064577308" rpy="0.0 -0.0 0.0" />
            <mass value="0.00111" />
            <inertia ixx="3.7369999999995205e-08" iyy="2.1182500000001216e-08" izz="5.781249999998531e-08" ixy="0.0" iyz="0.0" ixz="-4.235164736271502e-22" />
        </inertial>
        <visual name="sensor4_visual">
            <origin xyz="-0.1023880346344131 0.14515758387264488 -2.193541939199406e-09" rpy="1.5881393422555345e-15 9.52223853932184e-16 -6.492997941912091e-16" />
            <geometry>
                <mesh filename="meshes/sensor4.stl" scale="0.001 0.001 0.001" />
            </geometry>
        </visual>
        <collision name="sensor4_collision">
            <origin xyz="-0.1023880346344131 0.14515758387264488 -2.193541939199406e-09" rpy="1.5881393422555345e-15 9.52223853932184e-16 -6.492997941912091e-16" />
            <geometry>
                <mesh filename="meshes/sensor4.stl" scale="0.001 0.001 0.001" />
            </geometry>
        </collision>
    </link>
    <link name="sensor1">
        <inertial>
            <origin xyz="-1.8258132783444125e-09 -4.961367470190936e-09 0.0010000033690792255" rpy="0.0 -0.0 -1.9446922743316068e-62" />
            <mass value="0.00111" />
            <inertia ixx="3.7369999999986735e-08" iyy="2.1182500000004604e-08" izz="5.781249999998531e-08" ixy="1.4823076576950256e-21" iyz="-1.1911400820763599e-22" ixz="2.850376317692965e-39" />
        </inertial>
        <visual name="sensor1_visual">
            <origin xyz="-0.10238803286059911 0.1451575807076939 3.3690795175900234e-09" rpy="2.0263332571933324e-15 2.415886522239338e-30 -1.3102332426606636e-15" />
            <geometry>
                <mesh filename="meshes/sensor1.stl" scale="0.001 0.001 0.001" />
            </geometry>
        </visual>
        <collision name="sensor1_collision">
            <origin xyz="-0.10238803286059911 0.1451575807076939 3.3690795175900234e-09" rpy="2.0263332571933324e-15 2.415886522239338e-30 -1.3102332426606636e-15" />
            <geometry>
                <mesh filename="meshes/sensor1.stl" scale="0.001 0.001 0.001" />
            </geometry>
        </collision>
    </link>
    <link name="sensor5">
        <inertial>
            <origin xyz="-1.7525276518881583e-09 4.0558254588152214e-09 0.0009999967657437026" rpy="0.0 -0.0 0.0" />
            <mass value="0.00111" />
            <inertia ixx="2.1182500000014768e-08" iyy="3.7369999999998594e-08" izz="5.7812499999995476e-08" ixy="-3.8116482626443515e-21" iyz="3.3438064781583934e-40" ixz="-4.5606021083085957e-38" />
        </inertial>
        <visual name="sensor5_visual">
            <origin xyz="-0.14515758742158877 -0.10238802697896074 -3.2342560984943704e-09" rpy="8.769344808417986e-16 5.41337451086496e-16 1.5707963267948977" />
            <geometry>
                <mesh filename="meshes/sensor5.stl" scale="0.001 0.001 0.001" />
            </geometry>
        </visual>
        <collision name="sensor5_collision">
            <origin xyz="-0.14515758742158877 -0.10238802697896074 -3.2342560984943704e-09" rpy="8.769344808417986e-16 5.41337451086496e-16 1.5707963267948977" />
            <geometry>
                <mesh filename="meshes/sensor5.stl" scale="0.001 0.001 0.001" />
            </geometry>
        </collision>
    </link>
    <link name="sensor3">
        <inertial>
            <origin xyz="-1.0807558759040603e-09 -1.796416579935567e-09 0.000999997806457751" rpy="0.0 -0.0 0.0" />
            <mass value="0.00111" />
            <inertia ixx="3.736999999999182e-08" iyy="2.1182500000004604e-08" izz="5.78124999999887e-08" ixy="1.4739866014051436e-38" iyz="8.470329472543003e-22" ixz="6.741874483203176e-39" />
        </inertial>
        <visual name="sensor3_visual">
            <origin xyz="-0.10238803211554187 0.14515758387264469 -2.1935418703655784e-09" rpy="1.5952950765962468e-15 1.4098135165394976e-15 -1.8463958064169048e-16" />
            <geometry>
                <mesh filename="meshes/sensor3.stl" scale="0.001 0.001 0.001" />
            </geometry>
        </visual>
        <collision name="sensor3_collision">
            <origin xyz="-0.10238803211554187 0.14515758387264469 -2.1935418703655784e-09" rpy="1.5952950765962468e-15 1.4098135165394976e-15 -1.8463958064169048e-16" />
            <geometry>
                <mesh filename="meshes/sensor3.stl" scale="0.001 0.001 0.001" />
            </geometry>
        </collision>
    </link>
    <link name="sensor6">
        <inertial>
            <origin xyz="-1.7525279361052526e-09 -4.05582513907099e-09 0.001000001446127441" rpy="0.0 -0.0 0.0" />
            <mass value="0.00111" />
            <inertia ixx="2.118250000000037e-08" iyy="3.736999999997149e-08" izz="5.7812499999981923e-08" ixy="3.3881317890172014e-21" iyz="1.7284095624716135e-38" ixz="1.6940658945086007e-21" />
        </inertial>
        <visual name="sensor6_visual">
            <origin xyz="0.14515758391653344 0.10238802697896074 1.4461272979104934e-09" rpy="-3.016877248235621e-16 -9.854264491783185e-16 -1.5707963267948977" />
            <geometry>
                <mesh filename="meshes/sensor6.stl" scale="0.001 0.001 0.001" />
            </geometry>
        </visual>
        <collision name="sensor6_collision">
            <origin xyz="0.14515758391653344 0.10238802697896074 1.4461272979104934e-09" rpy="-3.016877248235621e-16 -9.854264491783185e-16 -1.5707963267948977" />
            <geometry>
                <mesh filename="meshes/sensor6.stl" scale="0.001 0.001 0.001" />
            </geometry>
        </collision>
    </link>
    <joint name="servo2_Rigid-85" type="fixed">
        <origin xyz="-0.01 0.015 0.025999999999999995" rpy="-1.5707963267948966 -4.4320160466905134e-32 9.860761315262648e-32" />
        <parent link="servo2" />
        <child link="ankel1" />
    </joint>
    <joint name="servo1_Rigid-86" type="fixed">
        <origin xyz="0.01 0.015 0.025999999999999995" rpy="-1.5707963267948966 -5.702138497759798e-33 -9.860761315262648e-32" />
        <parent link="servo1" />
        <child link="ankel2" />
    </joint>
    <joint name="csmall1_Revolute-87" type="revolute">
        <origin xyz="0.0 0.024749999999999998 0.033" rpy="1.5707963267948966 9.860761315262648e-32 1.4739898164836845e-31" />
        <parent link="csmall1" />
        <child link="servo2" />
        <axis xyz="-7.992343164533666e-32 0.0 1.0" />
        <limit lower="-0.872665" upper="0.872665" effort="1000000" velocity="1000000" />
    </joint>
    <joint name="csmall6_Revolute-88" type="revolute">
        <origin xyz="0.0 0.024749999999999998 0.033" rpy="1.5707963267948966 -4.930380657631324e-32 -1.97324315788137e-31" />
        <parent link="csmall6" />
        <child link="servo1" />
        <axis xyz="3.1492006061600383e-32 -3.944304526105059e-31 1.0" />
        <limit lower="-0.872665" upper="0.872665" effort="1000000" velocity="1000000" />
    </joint>
    <joint name="servo3_Rigid-89" type="fixed">
        <origin xyz="-0.015 0.01 0.026000000000000016" rpy="-3.141592653589793 1.5707963267948966 0" />
        <parent link="servo3" />
        <child link="csmall6" />
    </joint>
    <joint name="servo4_Rigid-90" type="fixed">
        <origin xyz="-0.015 -0.01 0.026000000000000002" rpy="-0.0 -1.5707963267948966 0" />
        <parent link="servo4" />
        <child link="csmall1" />
    </joint>
    <joint name="csmall2_Revolute-91" type="revolute">
        <origin xyz="-0.02475 0.0 0.033" rpy="1.9734305032509502e-31 1.5707963267948966 0" />
        <parent link="csmall2" />
        <child link="servo4" />
        <axis xyz="7.888609052210118e-31 5.227728254181639e-31 1.0" />
        <limit lower="-1.570796" upper="1.570796" effort="1000000" velocity="1000000" />
    </joint>
    <joint name="Comp1_Rigid-92" type="fixed">
        <origin xyz="0.0 0.01046829 0.014202469999999998" rpy="1.9721522630525295e-31 -5.616505753082788e-63 -2.84790675563228e-32" />
        <parent link="Comp1" />
        <child link="csmall2" />
    </joint>
    <joint name="csmall3_Rigid-93" type="fixed">
        <origin xyz="-0.03300000000000001 0.0 -0.02475" rpy="-3.141592653589793 1.5707963267948966 0" />
        <parent link="csmall3" />
        <child link="Comp1" />
    </joint>
    <joint name="servo6_Revolute-94" type="revolute">
        <origin xyz="-0.026551129999999996 -0.07088231999999998 -0.01" rpy="-1.5707963267948966 -0.0 1.5707963267948966" />
        <parent link="servo6" />
        <child link="csmall3" />
        <axis xyz="0.0 -1.159031063722169e-33 1.0" />
        <limit lower="-1.570796" upper="1.570796" effort="1000000" velocity="1000000" />
    </joint>
    <joint name="servo8_Rigid-95" type="fixed">
        <origin xyz="-0.01 0.015 0.025999999999999995" rpy="-1.5707963267948966 -1.5707963267948966 0" />
        <parent link="servo8" />
        <child link="servo6" />
    </joint>
    <joint name="csmall4_Revolute-96" type="revolute">
        <origin xyz="-0.024749999999999998 0.0 0.03300000000000001" rpy="7.992286107048302e-32 1.5707963267948966 0" />
        <parent link="csmall4" />
        <child link="servo8" />
        <axis xyz="0.0 2.7962383350627467e-31 1.0" />
        <limit lower="-1.570796" upper="1.570796" effort="1000000" velocity="1000000" />
    </joint>
    <joint name="csmall5_Rigid-97" type="fixed">
        <origin xyz="0.0 -0.03300000000000001 -0.02475" rpy="1.5707963267948966 -2.1340054758171858e-32 9.860761315262648e-32" />
        <parent link="csmall5" />
        <child link="csmall4" />
    </joint>
    <joint name="servo10_Revolute-98" type="revolute">
        <origin xyz="-0.0025 -0.026000000000000002 0.03" rpy="1.5707963267948966 1.5707963267948966 0" />
        <parent link="servo10" />
        <child link="csmall5" />
        <axis xyz="2.7286503733033063e-32 -0.0 1.0" />
        <limit lower="-1.570796" upper="0.523599" effort="1000000" velocity="1000000" />
    </joint>
    <joint name="base_link_Rigid-99" type="fixed">
        <origin xyz="0.07700000364404411 -0.0009999970613996456 0.2943680748627" rpy="7.021478737325863e-16 -1.5707963267948928 0" />
        <parent link="base_link" />
        <child link="servo10" />
    </joint>
    <joint name="csmall7_Revolute-100" type="revolute">
        <origin xyz="0.024750000000000015 0.0 0.033" rpy="3.141592653589793 1.5707963267948966 0" />
        <parent link="csmall7" />
        <child link="servo3" />
        <axis xyz="-7.888609052210118e-31 1.6743631100220177e-31 1.0" />
        <limit lower="-1.570796" upper="1.570796" effort="1000000" velocity="1000000" />
    </joint>
    <joint name="Comp2_Rigid-101" type="fixed">
        <origin xyz="0.0 0.01046829 0.014202469999999998" rpy="-3.944304526105059e-31 -0.0 -6.221834973550431e-32" />
        <parent link="Comp2" />
        <child link="csmall7" />
    </joint>
    <joint name="csmall8_Rigid-102" type="fixed">
        <origin xyz="-0.03300000000000001 0.0 -0.024750000000000015" rpy="-1.9721522630525295e-31 -1.5707963267948966 0" />
        <parent link="csmall8" />
        <child link="Comp2" />
    </joint>
    <joint name="servo5_Revolute-103" type="revolute">
        <origin xyz="0.02655113000000002 -0.07088231999999998 -0.01" rpy="1.5707963267948966 -1.9721522630525295e-31 1.5707963267948966" />
        <parent link="servo5" />
        <child link="csmall8" />
        <axis xyz="-3.944304526105059e-31 -7.727863396283102e-32 1.0" />
        <limit lower="-1.570796" upper="1.570796" effort="1000000" velocity="1000000" />
    </joint>
    <joint name="servo7_Rigid-104" type="fixed">
        <origin xyz="-0.01 -0.015 0.025999999999999995" rpy="1.5707963267948966 1.5707963267948966 0" />
        <parent link="servo7" />
        <child link="servo5" />
    </joint>
    <joint name="csmall9_Revolute-105" type="revolute">
        <origin xyz="0.024749999999999998 0.0 0.03300000000000001" rpy="3.141592653589793 1.5707963267948966 0" />
        <parent link="csmall9" />
        <child link="servo7" />
        <axis xyz="-3.944304526105059e-31 -1.8538350212600917e-31 1.0" />
        <limit lower="-1.570796" upper="1.570796" effort="1000000" velocity="1000000" />
    </joint>
    <joint name="csmall10_Rigid-106" type="fixed">
        <origin xyz="0.0 -0.03300000000000001 -0.02475" rpy="1.5707963267948966 2.784067740973774e-31 0.0" />
        <parent link="csmall10" />
        <child link="csmall9" />
    </joint>
    <joint name="servo9_Revolute-107" type="revolute">
        <origin xyz="-0.0025 0.026000000000000002 0.03" rpy="-1.5707963267948966 -1.5707963267948966 0" />
        <parent link="servo9" />
        <child link="csmall10" />
        <axis xyz="2.728650373303245e-32 -0.0 1.0" />
        <limit lower="-0.523599" upper="1.570796" effort="1000000" velocity="1000000" />
    </joint>
    <joint name="base_link_Rigid-108" type="fixed">
        <origin xyz="0.09800000364404338 -0.00099999706139963 0.2943680748627" rpy="-3.1415926535897927 -1.5707963267948928 0" />
        <parent link="base_link" />
        <child link="servo9" />
    </joint>
    <joint name="base_link_Rigid-109" type="fixed">
        <origin xyz="0.08750000364404383 -0.0009999970613996235 0.3071355248626996" rpy="-1.2577698011349667e-15 4.2674197509029474e-16 7.021478737325924e-16" />
        <parent link="base_link" />
        <child link="Comp3" />
    </joint>
    <joint name="csmall15_Revolute-110" type="revolute">
        <origin xyz="0.0 0.02475 0.03300000000000001" rpy="1.5707963267948966 9.860761315262648e-32 5.28375221563461e-32" />
        <parent link="csmall15" />
        <child link="servo11" />
        <axis xyz="-3.797217091082633e-32 0.0 1.0" />
        <limit lower="-1.570796" upper="1.570796" effort="1000000" velocity="1000000" />
    </joint>
    <joint name="servo15_Revolute-113" type="revolute">
        <origin xyz="0.0025 0.038999999999999986 0.01" rpy="-1.5707963267948966 -1.5707963267948966 0" />
        <parent link="servo15" />
        <child link="csmall14" />
        <axis xyz="-7.888609052210118e-31 -2.4764777820344067e-31 1.0" />
        <limit lower="-2.792527" upper="0.349066" effort="1000000" velocity="1000000" />
    </joint>
    <joint name="Comp3_Rigid-114" type="fixed">
        <origin xyz="0.055 0.0 0.029999999999999964" rpy="-1.1846452909010346e-63 1.9721522630525295e-31 -1.5707963267948966" />
        <parent link="Comp3" />
        <child link="servo15" />
    </joint>
    <joint name="csmall12_Revolute-115" type="revolute">
        <origin xyz="0.0 0.02475 0.03300000000000001" rpy="1.5707963267948966 3.0814879110195774e-33 -1.1885773227884292e-31" />
        <parent link="csmall12" />
        <child link="servo12" />
        <axis xyz="-9.527285330385062e-32 0.0 1.0" />
        <limit lower="-1.570796" upper="1.570796" effort="1000000" velocity="1000000" />
    </joint>
    <joint name="servo14_Rigid-116" type="fixed">
        <origin xyz="0.0025 0.029999999999999964 0.026000000000000002" rpy="-1.5707963267948966 3.976044180564392e-31 3.0814879110195774e-33" />
        <parent link="servo14" />
        <child link="csmall12" />
    </joint>
    <joint name="csmall11_Revolute-117" type="revolute">
        <origin xyz="0.0 -0.02475 0.033" rpy="-1.5707963267948966 1.5707963267948966 0" />
        <parent link="csmall11" />
        <child link="servo14" />
        <axis xyz="1.8347383247374562e-31 1.9721522630525295e-31 1.0" />
        <limit lower="-0.349066" upper="2.792527" effort="1000000" velocity="1000000" />
    </joint>
    <joint name="servo16_Revolute-118" type="revolute">
        <origin xyz="0.0025 -0.03899999999999999 0.01" rpy="1.5707963267948966 -1.5707963267948966 0" />
        <parent link="servo16" />
        <child link="csmall11" />
        <axis xyz="0.0 -4.8337454333703625e-31 1.0" />
        <limit lower="-0.349066" upper="2.792527" effort="1000000" velocity="1000000" />
    </joint>
    <joint name="Comp3_Rigid-119" type="fixed">
        <origin xyz="-0.05500000000000001 0.0 0.029999999999999964" rpy="-1.1846452909010346e-63 1.9721522630525295e-31 -1.5707963267948966" />
        <parent link="Comp3" />
        <child link="servo16" />
    </joint>
    <joint name="Comp3_Rigid-121" type="fixed">
        <origin xyz="0.0 0.0 0.029999999999999964" rpy="1.9721522630525295e-31 1.1846452909010346e-63 -6.006865256272968e-33" />
        <parent link="Comp3" />
        <child link="Comp4" />
    </joint>
    <joint name="Comp4_Revolute-122" type="revolute">
        <origin xyz="0.0 0.0 0.06" rpy="9.860761315262648e-32 -0.0 1.0729844052798728e-32" />
        <parent link="Comp4" />
        <child link="servo17" />
        <axis xyz="0.0 9.860761315262648e-32 1.0" />
        <limit lower="-1.570796" upper="1.570796" effort="1000000" velocity="1000000" />
    </joint>
    <joint name="servo13_Rigid-123" type="fixed">
        <origin xyz="-0.0025 0.029999999999999964 0.026000000000000002" rpy="-1.5707963267948966 -5.184273838280954e-32 0.0" />
        <parent link="servo13" />
        <child link="csmall15" />
    </joint>
    <joint name="csmall14_Revolute-124" type="revolute">
        <origin xyz="0.0 0.02475 0.03300000000000001" rpy="1.5707963267948966 -1.5707963267948966 0" />
        <parent link="csmall14" />
        <child link="servo13" />
        <axis xyz="-3.697738713728978e-32 1.9721522630525295e-31 1.0" />
        <limit lower="-2.96706" upper="0.174533" effort="1000000" velocity="1000000" />
    </joint>
    <joint name="servo1_Rigid-139" type="fixed">
        <origin xyz="0.01 -0.01 0.025999999999999995" rpy="1.5707963267948966 -5.702138497759798e-33 -9.860761315262648e-32" />
        <parent link="servo1" />
        <child link="sensor1" />
    </joint>
    <joint name="servo2_Rigid-140" type="fixed">
        <origin xyz="-0.01 -0.01 0.025999999999999995" rpy="1.5707963267948966 -4.4320160466905134e-32 9.860761315262648e-32" />
        <parent link="servo2" />
        <child link="sensor2" />
    </joint>
    <joint name="servo6_Rigid-141" type="fixed">
        <origin xyz="-0.0005511299999999953 -0.06088231999999998 -0.025" rpy="3.141592653589793 6.518783011447375e-32 -9.860761315262648e-32" />
        <parent link="servo6" />
        <child link="sensor4" />
    </joint>
    <joint name="servo5_Rigid-142" type="fixed">
        <origin xyz="0.0005511300000000042 -0.06088231999999998 -0.025" rpy="-3.141592653589793 2.500881773550205e-31 4.93211964933386e-62" />
        <parent link="servo5" />
        <child link="sensor3" />
    </joint>
    <joint name="servo12_Rigid-143" type="fixed">
        <origin xyz="-0.011749999999999998 0.03527048000000001 0.0260249" rpy="1.5707963267948966 -0.0 -1.5707963267948966" />
        <parent link="servo12" />
        <child link="sensor6" />
    </joint>
    <joint name="servo11_Rigid-144" type="fixed">
        <origin xyz="0.011750000000000007 0.03527048000000001 0.0260249" rpy="-1.5707963267948966 2.9954761117921433e-62 -1.5707963267948966" />
        <parent link="servo11" />
        <child link="sensor5" />
    </joint>
    <joint name="Comp4_Rigid-145" type="fixed">
        <origin xyz="-0.01 0.0 0.03" rpy="1.0729844052798728e-32 -1.5707963267948966 0" />
        <parent link="Comp4" />
        <child link="sensor7" />
    </joint>
</robot>
